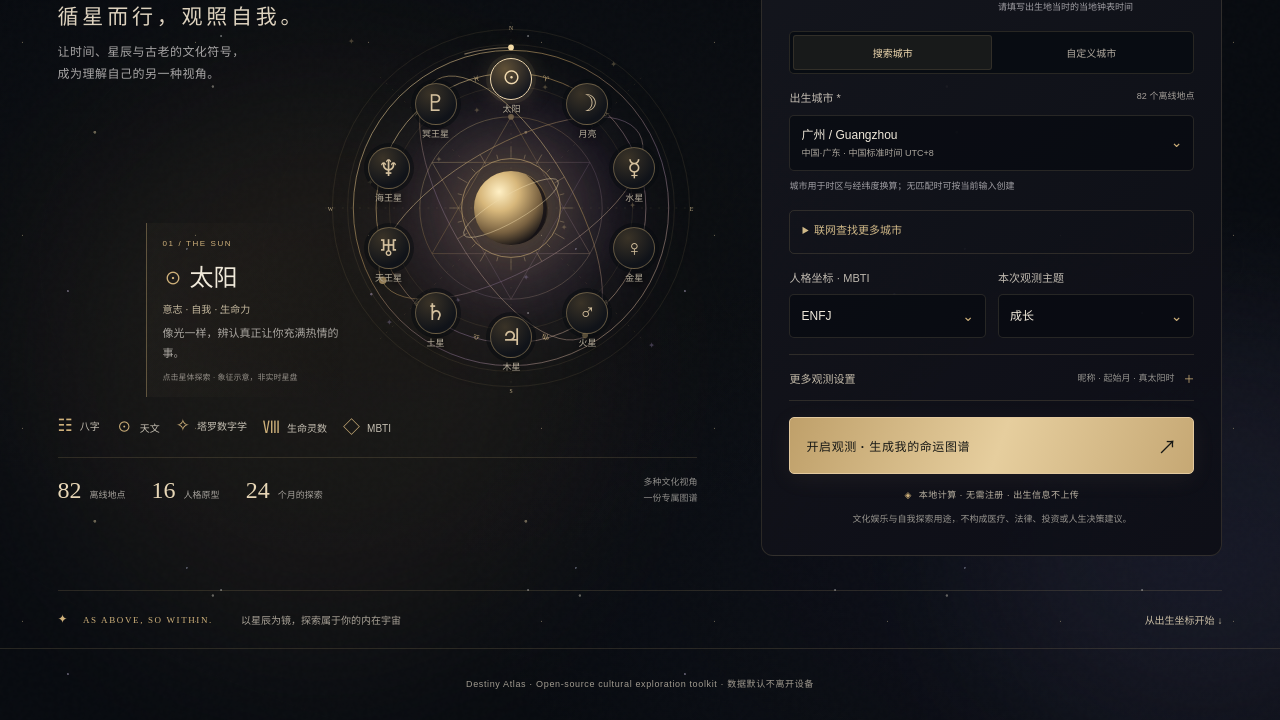
Scenario: observatory interactions › keeps optional observation settings in the generated report after collapsing them
This screenshot has width=1280, height=720.
(page scrolled)
Click the text "更多观测设置" at (822, 378), box [790, 370, 856, 386]
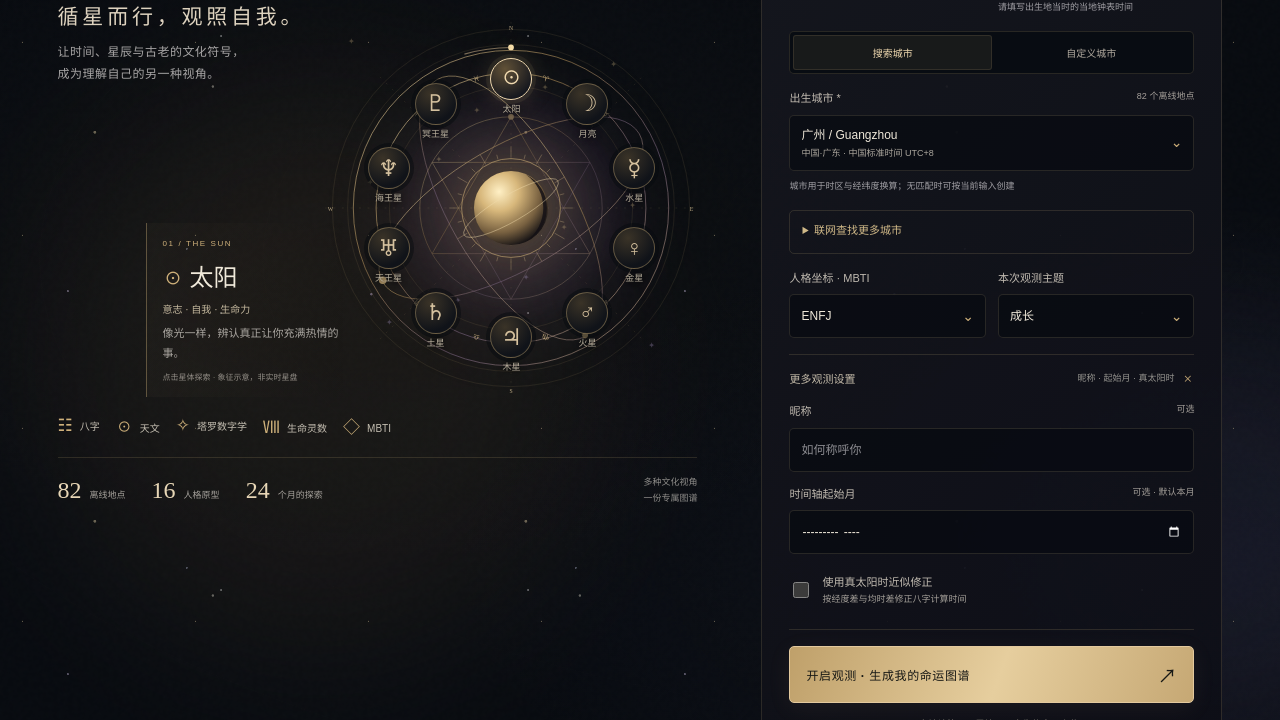
Type "观测者" into the field with placeholder "如何称呼你" at (992, 450), box [790, 428, 1194, 472]
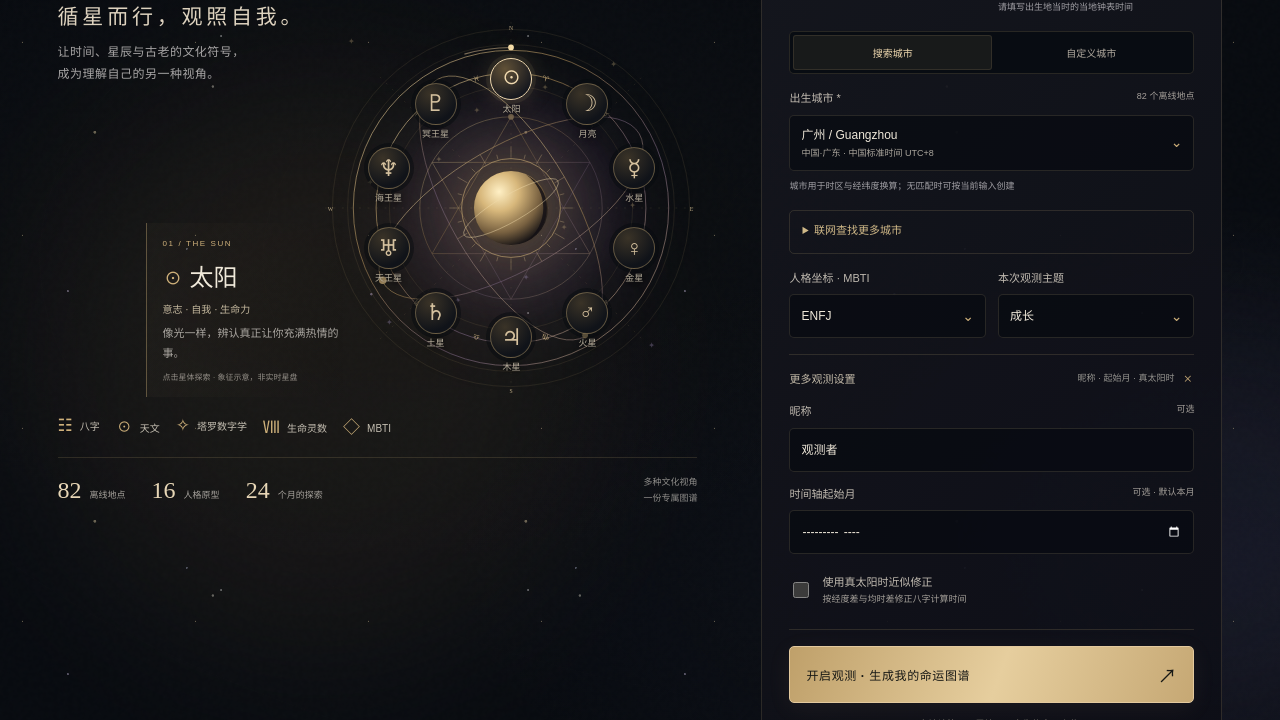
Type "2027-01" into the field labelled "时间轴起始月 可选 · 默认本月" at (992, 532), box [790, 510, 1194, 554]
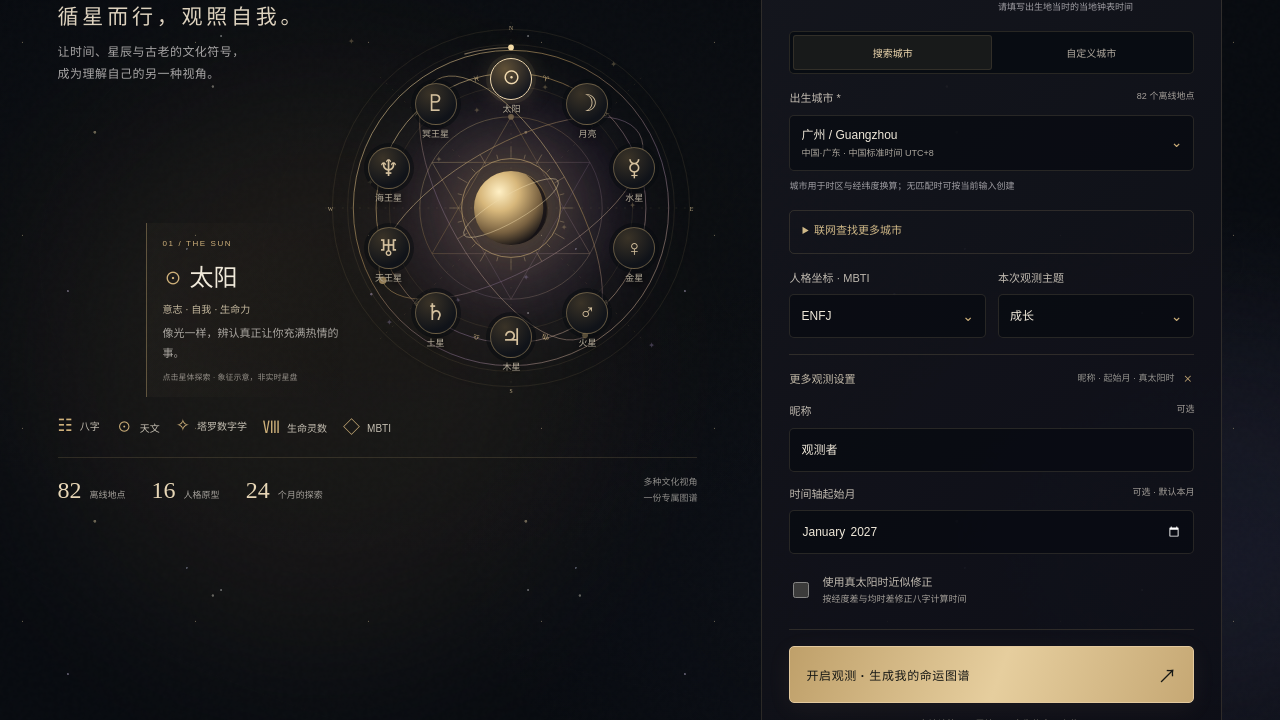
Click the text "更多观测设置" at (822, 378), box [790, 370, 856, 386]
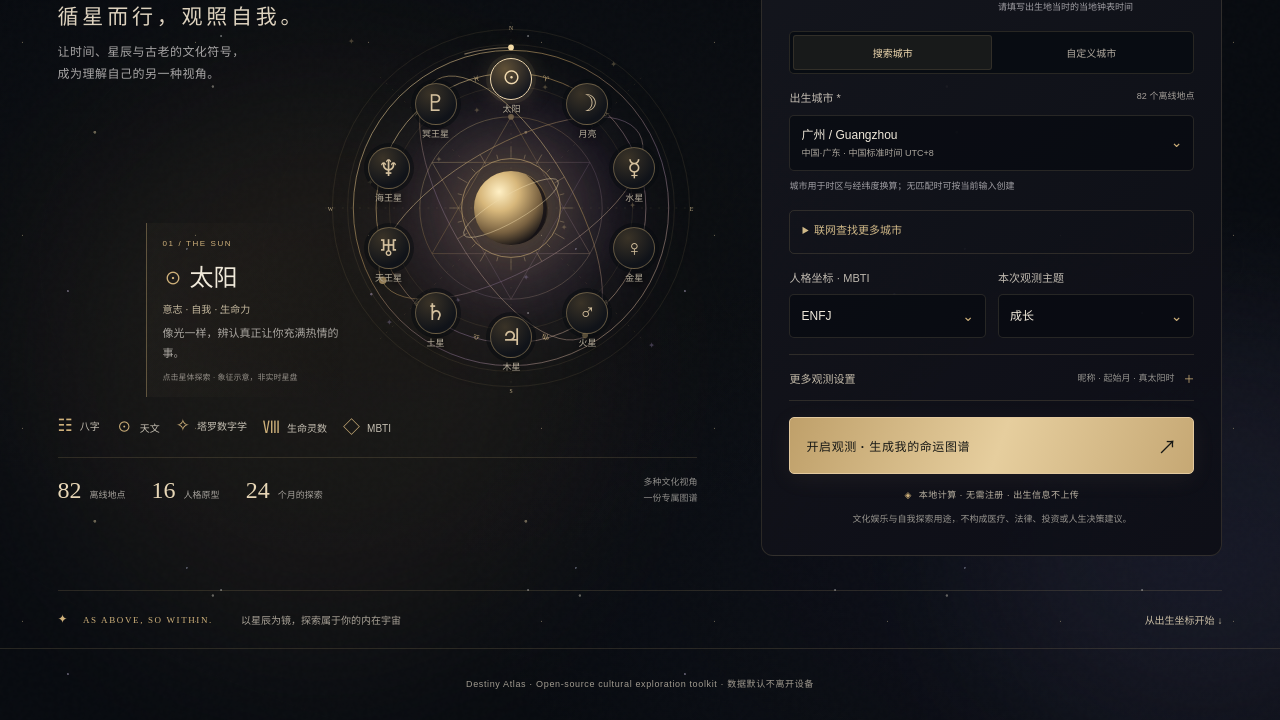
Click the button "开启观测 · 生成我的命运图谱 ↗" at (888, 447), box [790, 418, 1194, 474]
(page scrolled)
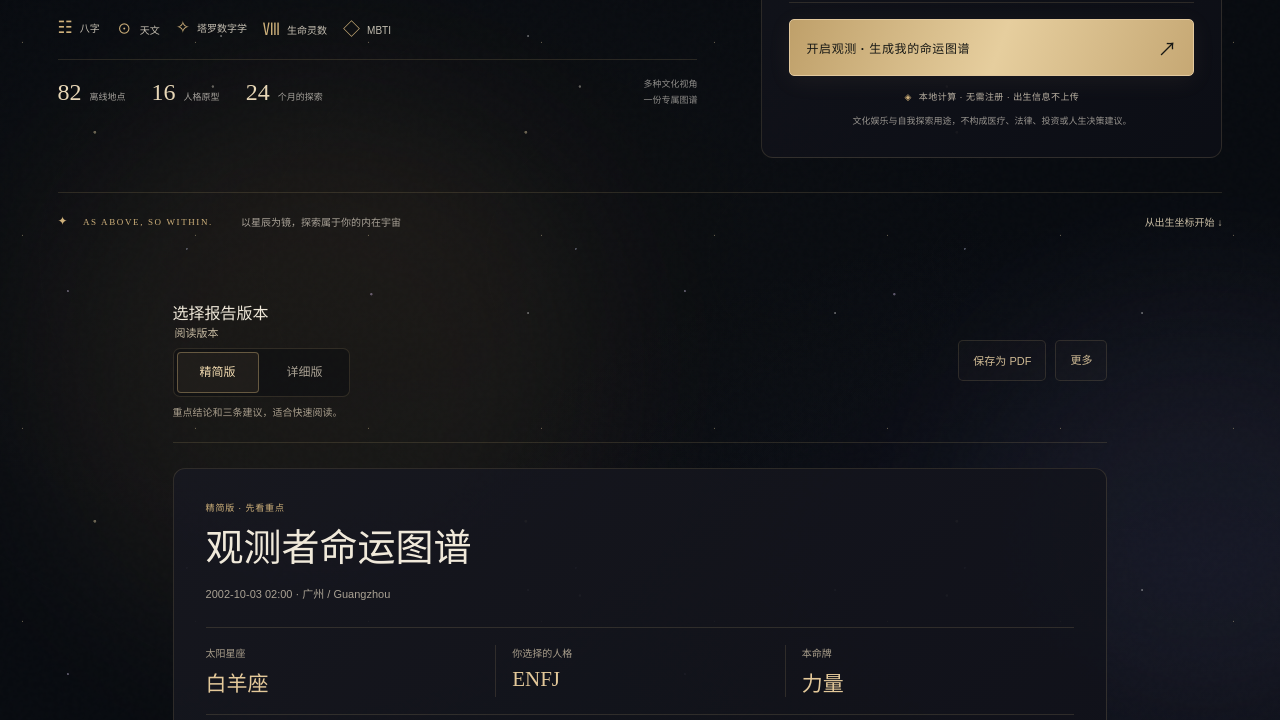
Click the radio button labelled "详细版" at (305, 372), box [287, 365, 323, 379]
(page scrolled)
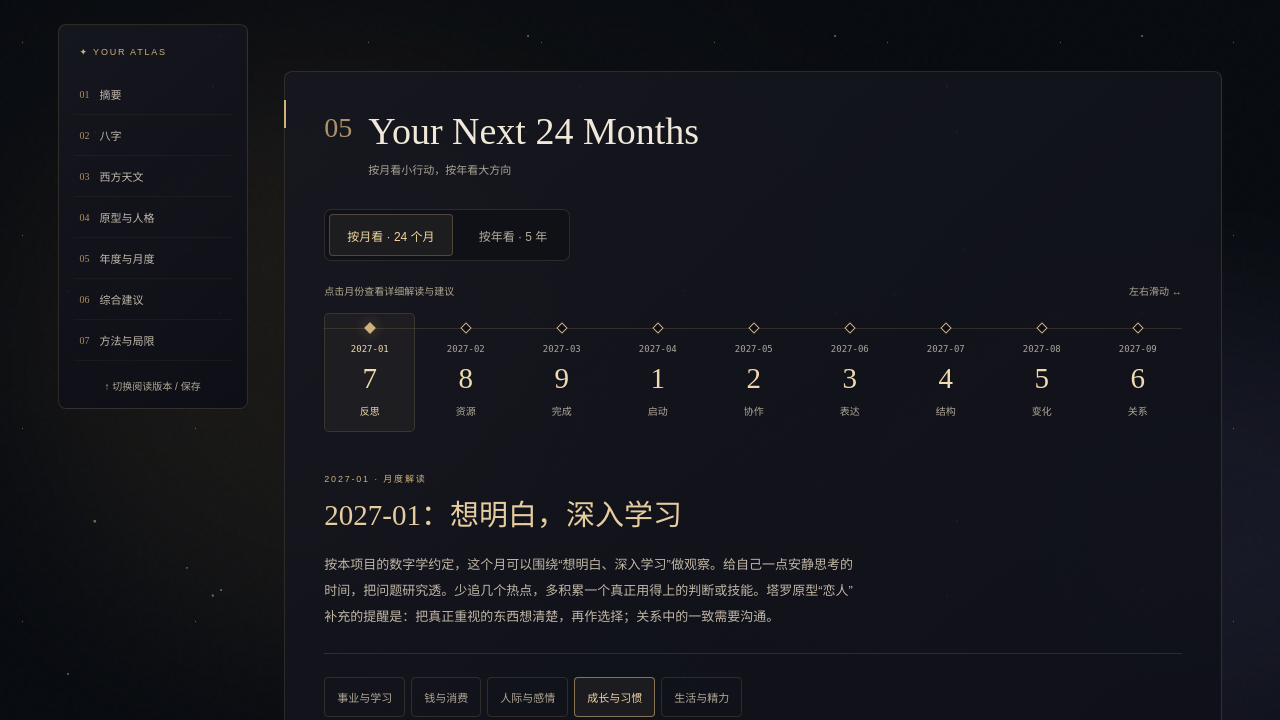
Result: the button "2027-01 7 反思" is shown at [324, 313, 415, 432]
